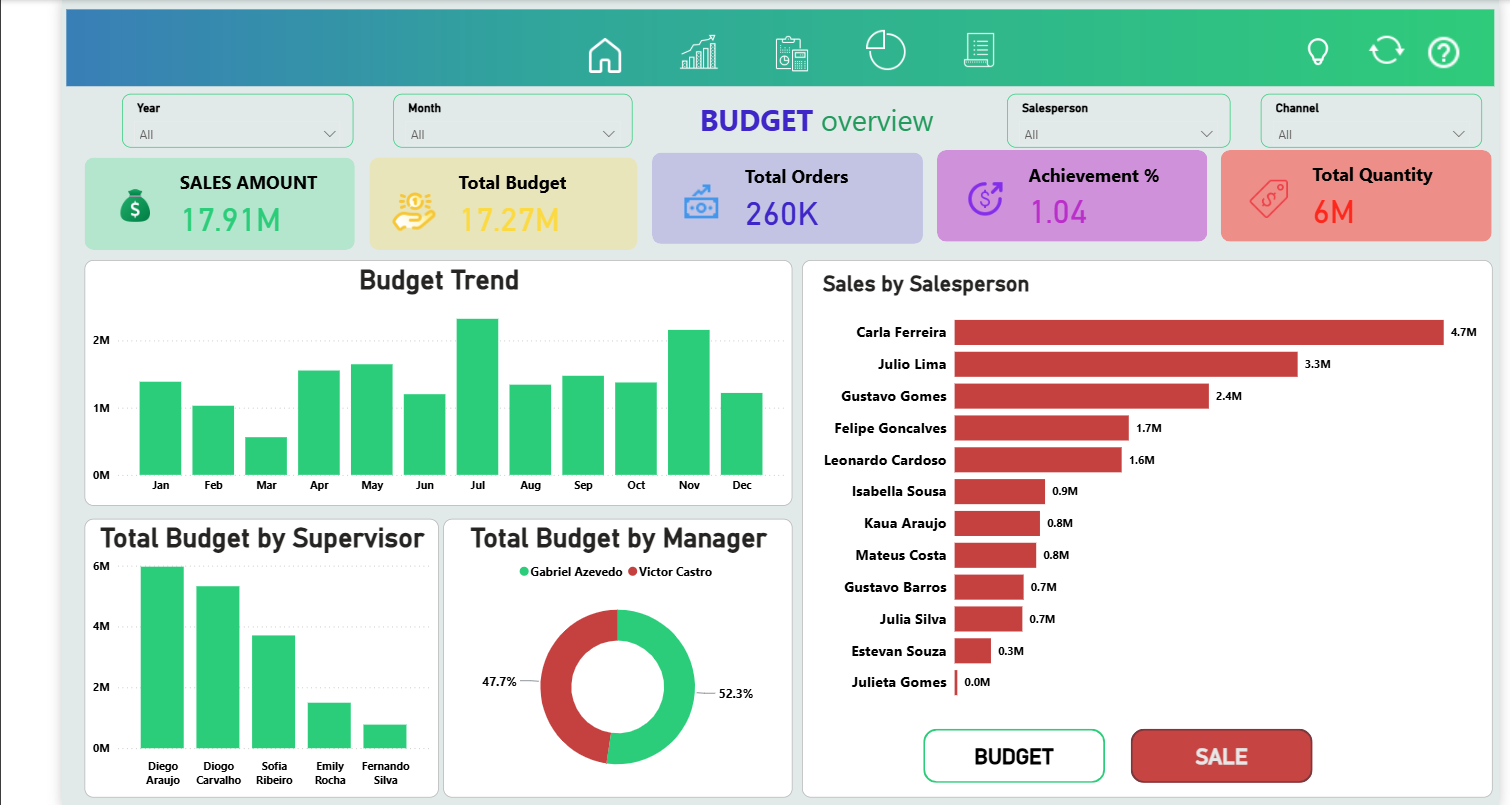

The page's visual inventory and layout, read from the dashboard file:
{"tool":"powerbi","page":{"name":"Orders Analysis","canvas":[1600,900],"ordinal":4},"visuals":[{"type":"shape","box":[12,622.4,1580.1,266.3],"z":0},{"type":"group","id":"g1","title":"Group 1","box":[49.7,163.1,301.8,122.5],"z":1000},{"type":"shape","box":[49.7,163.1,301,122.5],"z":1000,"group":"g1"},{"type":"shape","box":[360.4,165.2,301,122.5],"z":1000,"group":"g2"},{"type":"image","box":[0,0,1599.4,106.5],"z":2000},{"type":"shape","box":[671,165.4,301,122.5],"z":2000,"group":"g3"},{"type":"image","box":[72.8,195.1,65.7,67.5],"z":2000,"group":"g1"},{"type":"group","id":"g2","title":"Group 2","box":[360.4,165.2,301,122.5],"z":3000},{"type":"shape","box":[980.9,166.7,301,122.5],"z":3000,"group":"g4"},{"type":"cardVisual","title":"SALES","fields":{"Data":["Sum(SalesData.SalesAmount)"]},"box":[138.5,163.1,213,122.5],"z":3500,"group":"g1"},{"type":"group","id":"g3","title":"Group 3","box":[671,165.4,301,122.5],"z":4000},{"type":"shape","box":[1290.8,166.8,301.8,122.5],"z":4000,"group":"g5"},{"type":"group","id":"g4","title":"Group 4","box":[980.9,166.7,301,122.5],"z":5000},{"type":"image","box":[382.4,197.2,62.6,67.5],"z":5000,"group":"g2"},{"type":"group","id":"g5","title":"Group 5","box":[1290.8,166.8,301.8,122.5],"z":6000},{"type":"image","box":[695,197.4,62.6,67.5],"z":6000,"group":"g3"},{"type":"slicer","fields":{"Values":["Calender Table.Year"]},"box":[66.8,104.7,257.4,60.4],"z":7000},{"type":"image","box":[1002.9,198.7,62.6,67.5],"z":7000,"group":"g4"},{"type":"slicer","fields":{"Values":["Calender Table.Month"]},"box":[368.6,104.7,266.3,60.4],"z":8000},{"type":"image","box":[1312.8,198.8,62.7,67.5],"z":8000,"group":"g5"},{"type":"cardVisual","title":"SALES","fields":{"Data":["#Measure.Total Budget"]},"box":[445,165.2,202.9,122.5],"z":9000,"group":"g2"},{"type":"donutChart","fields":{"Category":["Product.ProductGroup"],"Y":["#Measure.Total Orders"]},"box":[19.5,634.4,429.4,246.9],"z":9000},{"type":"slicer","fields":{"Values":["Salesperson.Salesperson"]},"box":[1052,104.7,248.5,60.4],"z":10000},{"type":"cardVisual","title":"SALES","fields":{"Data":["#Measure.Total Orders"]},"box":[757.5,165.4,202.9,122.5],"z":10000,"group":"g3"},{"type":"cardVisual","title":"SALES","fields":{"Data":["#Measure.Budget Achievement %"]},"box":[1065.5,166.7,202.9,122.5],"z":11000,"group":"g4"},{"type":"lineChart","title":"Daily Order","fields":{"Category":["Calender Table.Day"],"Y":["#Measure.Total Orders"]},"box":[19.5,381.5,748.1,230.4],"z":11000},{"type":"slicer","fields":{"Values":["SalesData.Channel"]},"box":[1334.3,104.7,246.7,60.4],"z":12000},{"type":"cardVisual","title":"SALES","fields":{"Data":["#Measure.Total Quantity"]},"box":[1375.6,166.8,203.4,122.5],"z":12000,"group":"g5"},{"type":"donutChart","title":"Total Order  by Year","fields":{"Category":["Calender Table.Year"],"Y":["#Measure.Total Orders"]},"box":[453.4,637.4,435.4,242.4],"z":13000},{"type":"textbox","box":[634.2,107.8,410.9,63.9],"z":14000},{"type":"donutChart","title":"Total Order by Manager","fields":{"Y":["#Measure.Total Orders"],"Category":["Salesperson.Manager"]},"box":[893.3,634.4,351.6,264.8],"z":15000},{"type":"donutChart","title":"Total Order by ProductCategory","fields":{"Y":["#Measure.Total Orders"],"Category":["Product.ProductCategory"]},"box":[1249.4,634.4,350.1,252.9],"z":16000},{"type":"WordCloud1447959067750","fields":{"Category":["Salesperson.Salesperson"],"Values":["#Measure.Total Orders"]},"box":[778.1,300.7,404,311.2],"z":17000},{"type":"columnChart","fields":{"Y":["#Measure.Total Orders"],"Category":["SalesData.Channel"]},"box":[1192.5,300.7,399.5,311.2],"z":18000},{"type":"image","box":[1516,26.6,51.5,51.5],"z":19000},{"type":"image","box":[1375.7,30.2,51.5,51.5],"z":20000},{"type":"image","box":[1434.3,26.6,51.5,51.5],"z":21000},{"type":"image","box":[568.1,33.7,74,58],"z":22000},{"type":"image","box":[671.9,27.7,74,58],"z":23000},{"type":"image","box":[775.1,31.4,74.8,58.4],"z":24000},{"type":"image","box":[879.8,26.9,74.8,58.4],"z":25000},{"type":"image","box":[984.5,26.9,74.8,58.4],"z":26000},{"type":"slicer","fields":{"Values":["Parameter.Parameter"]},"box":[19.5,311.2,748.1,58.4],"z":26001}]}

Visuals, with their boxes on the page's 1600x900 design canvas (x1, y1, x2, y2). These are canvas units, not pixel positions in the 1510x805 screenshot, which may show the page scaled, cropped or inside an application window:
shape: BBox(12, 622, 1592, 889)
"Group 1" group: BBox(50, 163, 352, 286)
shape: BBox(50, 163, 351, 286)
shape: BBox(360, 165, 661, 288)
image: BBox(0, 0, 1599, 106)
shape: BBox(671, 165, 972, 288)
image: BBox(73, 195, 138, 263)
"Group 2" group: BBox(360, 165, 661, 288)
shape: BBox(981, 167, 1282, 289)
"SALES" cardVisual: BBox(138, 163, 352, 286)
"Group 3" group: BBox(671, 165, 972, 288)
shape: BBox(1291, 167, 1593, 289)
"Group 4" group: BBox(981, 167, 1282, 289)
image: BBox(382, 197, 445, 265)
"Group 5" group: BBox(1291, 167, 1593, 289)
image: BBox(695, 197, 758, 265)
slicer - Calender Table.Year: BBox(67, 105, 324, 165)
image: BBox(1003, 199, 1066, 266)
slicer - Calender Table.Month: BBox(369, 105, 635, 165)
image: BBox(1313, 199, 1376, 266)
"SALES" cardVisual: BBox(445, 165, 648, 288)
donutChart - Product.ProductGroup x #Measure.Total Orders: BBox(20, 634, 449, 881)
slicer - Salesperson.Salesperson: BBox(1052, 105, 1300, 165)
"SALES" cardVisual: BBox(758, 165, 960, 288)
"SALES" cardVisual: BBox(1066, 167, 1268, 289)
"Daily Order" lineChart: BBox(20, 382, 768, 612)
slicer - SalesData.Channel: BBox(1334, 105, 1581, 165)
"SALES" cardVisual: BBox(1376, 167, 1579, 289)
"Total Order  by Year" donutChart: BBox(453, 637, 889, 880)
textbox: BBox(634, 108, 1045, 172)
"Total Order by Manager" donutChart: BBox(893, 634, 1245, 899)
"Total Order by ProductCategory" donutChart: BBox(1249, 634, 1600, 887)
WordCloud1447959067750 - Salesperson.Salesperson x #Measure.Total Orders: BBox(778, 301, 1182, 612)
columnChart - #Measure.Total Orders x SalesData.Channel: BBox(1192, 301, 1592, 612)
image: BBox(1516, 27, 1568, 78)
image: BBox(1376, 30, 1427, 82)
image: BBox(1434, 27, 1486, 78)
image: BBox(568, 34, 642, 92)
image: BBox(672, 28, 746, 86)
image: BBox(775, 31, 850, 90)
image: BBox(880, 27, 955, 85)
image: BBox(984, 27, 1059, 85)
slicer - Parameter.Parameter: BBox(20, 311, 768, 370)
